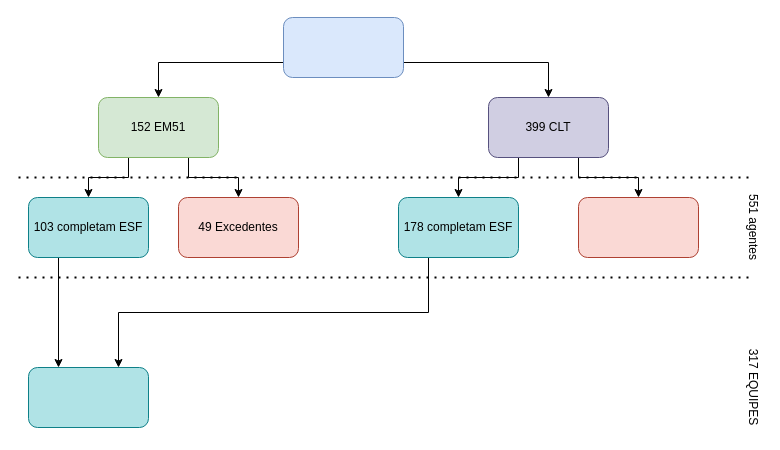
The diagram is 780 pixels wide and 450 high, and some of its shapes have lost their labels. Each missing label, with the box of its shape:
221 excedentes: (578, 196, 698, 258)
281 completam Equipes: (28, 366, 148, 428)
551 Agentes Ativos: (282, 16, 404, 78)
